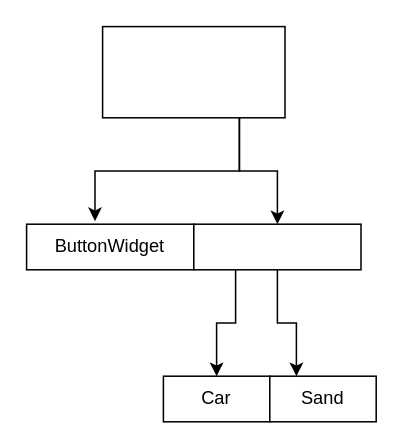
Some shapes in this 403 by 448 pixel diagram are drawn without their labels. Here are the shapes that lost their labels. From the top down, the centre of each, then its label:
At (x=193, y=71): "MainWindow".
At (x=276, y=246): "GameWidget".
